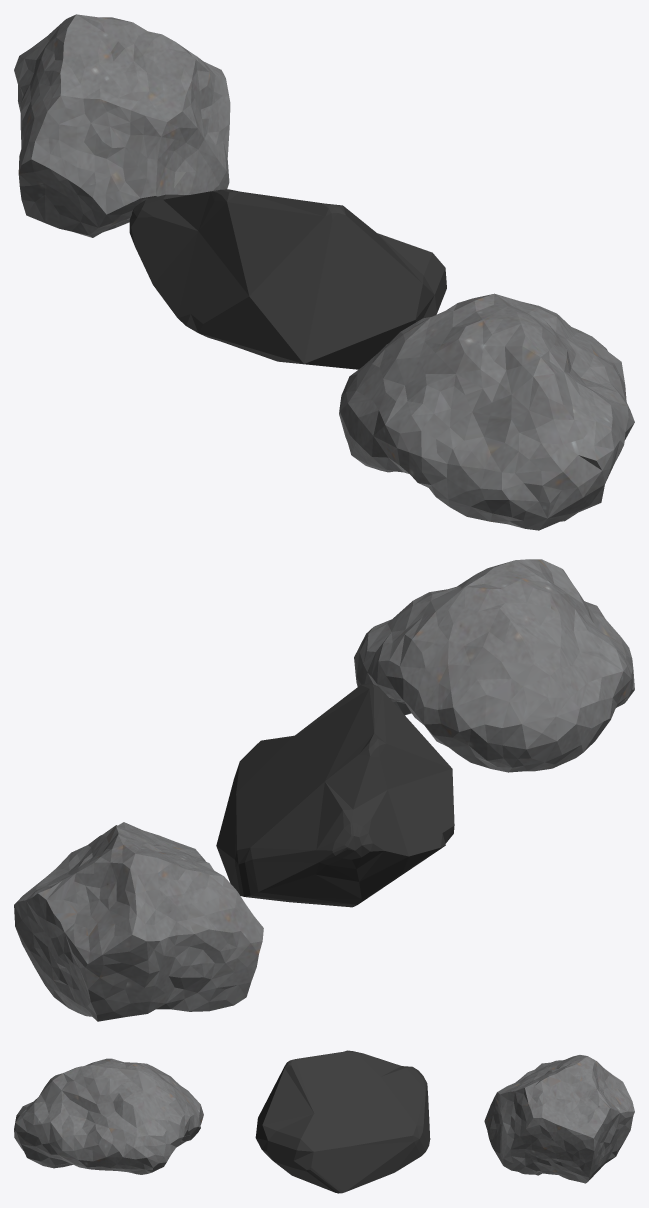
File: rock-divider.dae
3 views of the same model, one above another, from view 1: azimuth 30°, elevation 25°; view 2: azimuth 150°, elevation 25°; view 3: azimuth 270°, elevation 25° (orthographic). The views are drawn at different scales.
Parts seen in each view (by area): view 1: rock_round, rock5, rock_rough; view 2: rock_round, rock5, rock_rough; view 3: rock5, rock_round, rock_rough.
Boxes of the visible parts, x1,y1,x2,y2 form: rock_round: (339,293,634,530); rock5: (129,189,446,369); rock_rough: (14,14,230,237); rock_round: (354,559,634,772); rock5: (216,683,454,907); rock_rough: (14,822,263,1021); rock5: (255,1050,430,1193); rock_round: (14,1058,203,1174); rock_rough: (484,1055,634,1183).
Size of the model in its own units: 0.5209 by 1.86 by 0.3526.
Materials: 3 (2 with a texture image).
